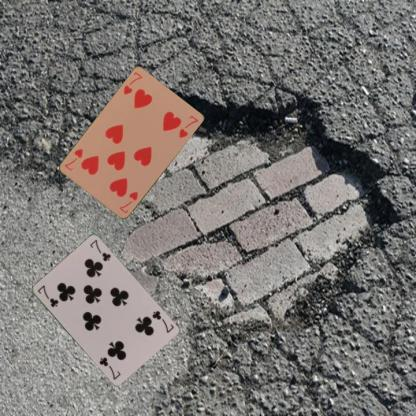7c: (34, 282, 60, 308), (149, 308, 175, 334)
7h: (120, 70, 143, 96), (117, 189, 139, 215)
